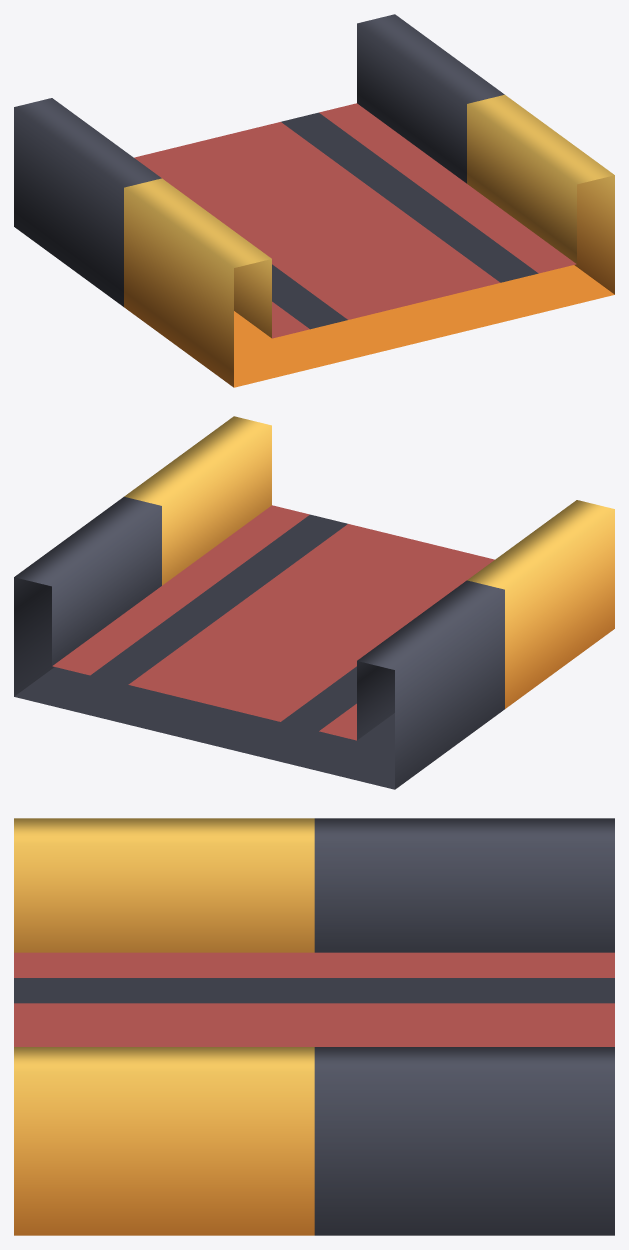
Rendered from track-road-narrow.fbx.
3 views of the same model, one above another, from view 1: azimuth 30°, elevation 25°; view 2: azimuth 150°, elevation 25°; view 3: azimuth 270°, elevation 25° (orthographic). The views are drawn at different scales.
Visible parts, largest first — view 1: track-road-narrow; view 2: track-road-narrow; view 3: track-road-narrow.
Boxes of the visible parts, x1,y1,x2,y2 form: track-road-narrow: (14,14,614,387); track-road-narrow: (14,416,614,789); track-road-narrow: (14,818,614,1235).
Size of the model in its own units: 100 by 30 by 100.
